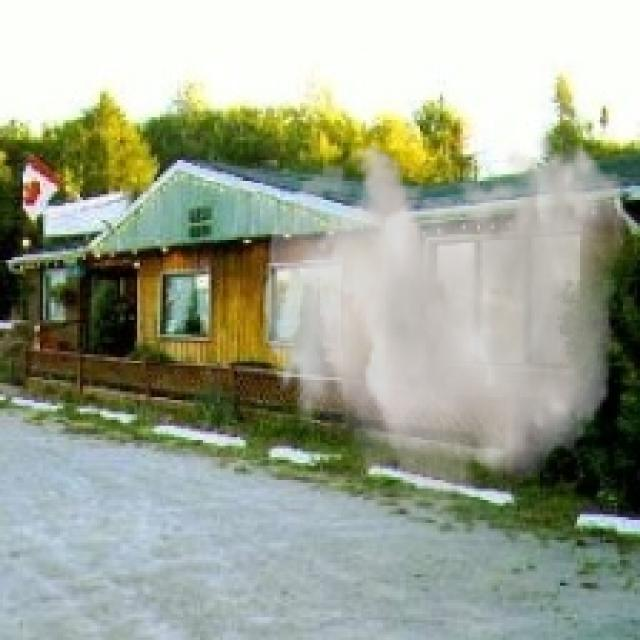smoke: (263, 132, 628, 532)
